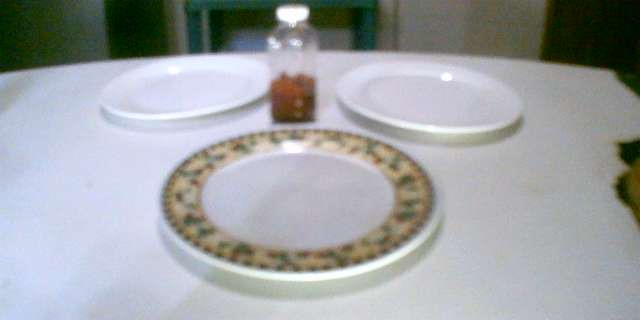empty_plate: (145, 118, 446, 289), (329, 53, 532, 144), (95, 46, 269, 127)
ketchup_bottle: (256, 3, 322, 129)
